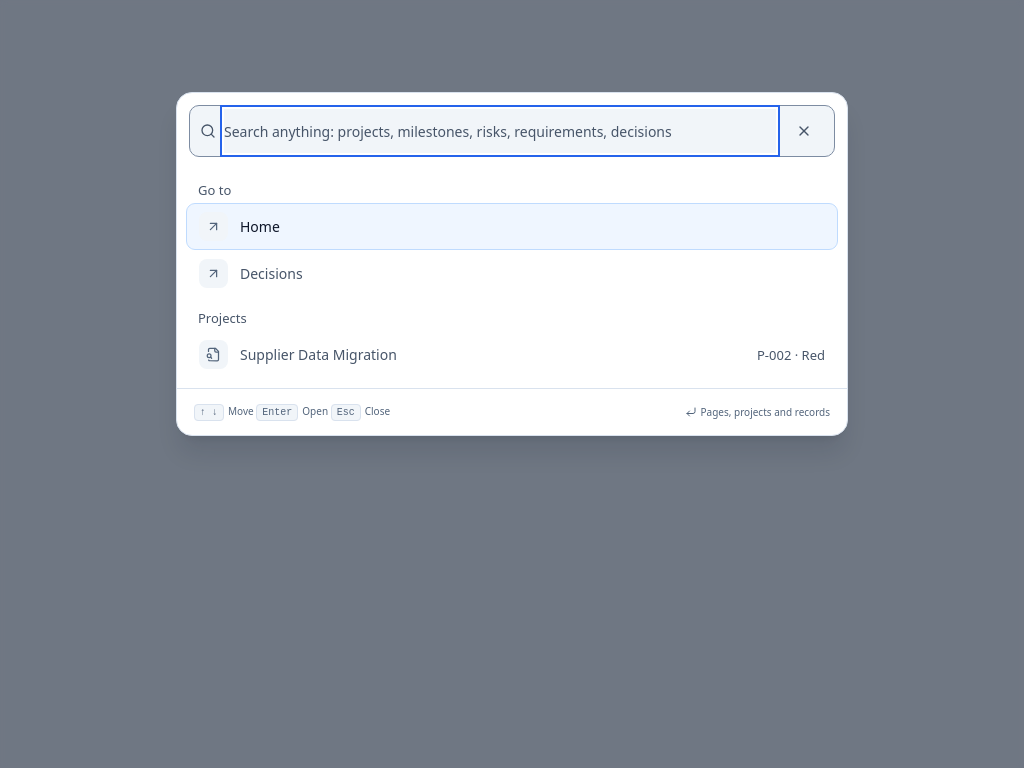
workspace search › says how many further records also matched
The image size is (1024, 768).
Type "supplier" into the field named "Search the workspace" at (500, 131), box [224,109,776,153]
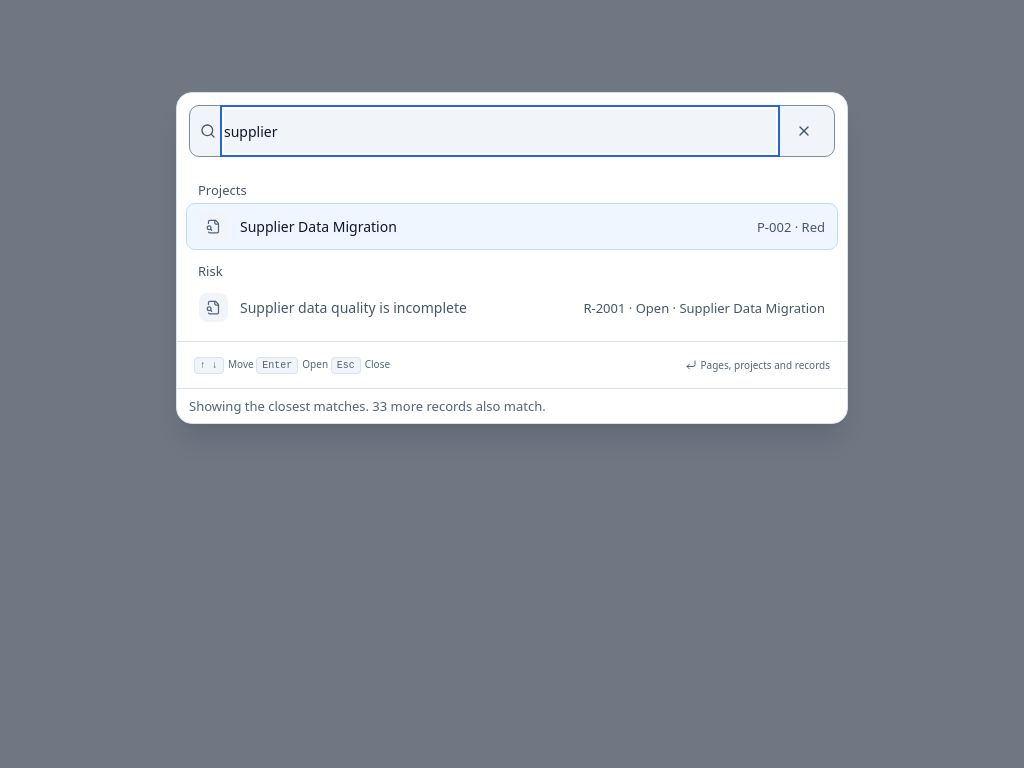
Expected: the text "Showing the closest matches. 33 more records also match." is shown, [177,388,847,423]
